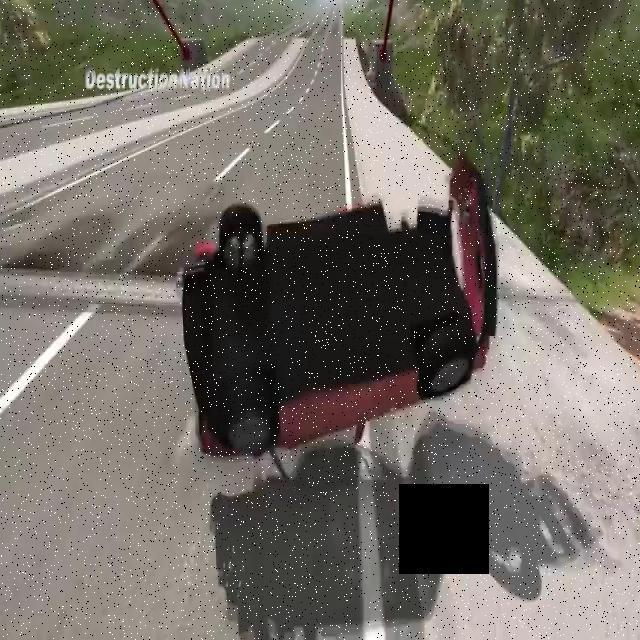accident: (177, 154, 505, 458)
